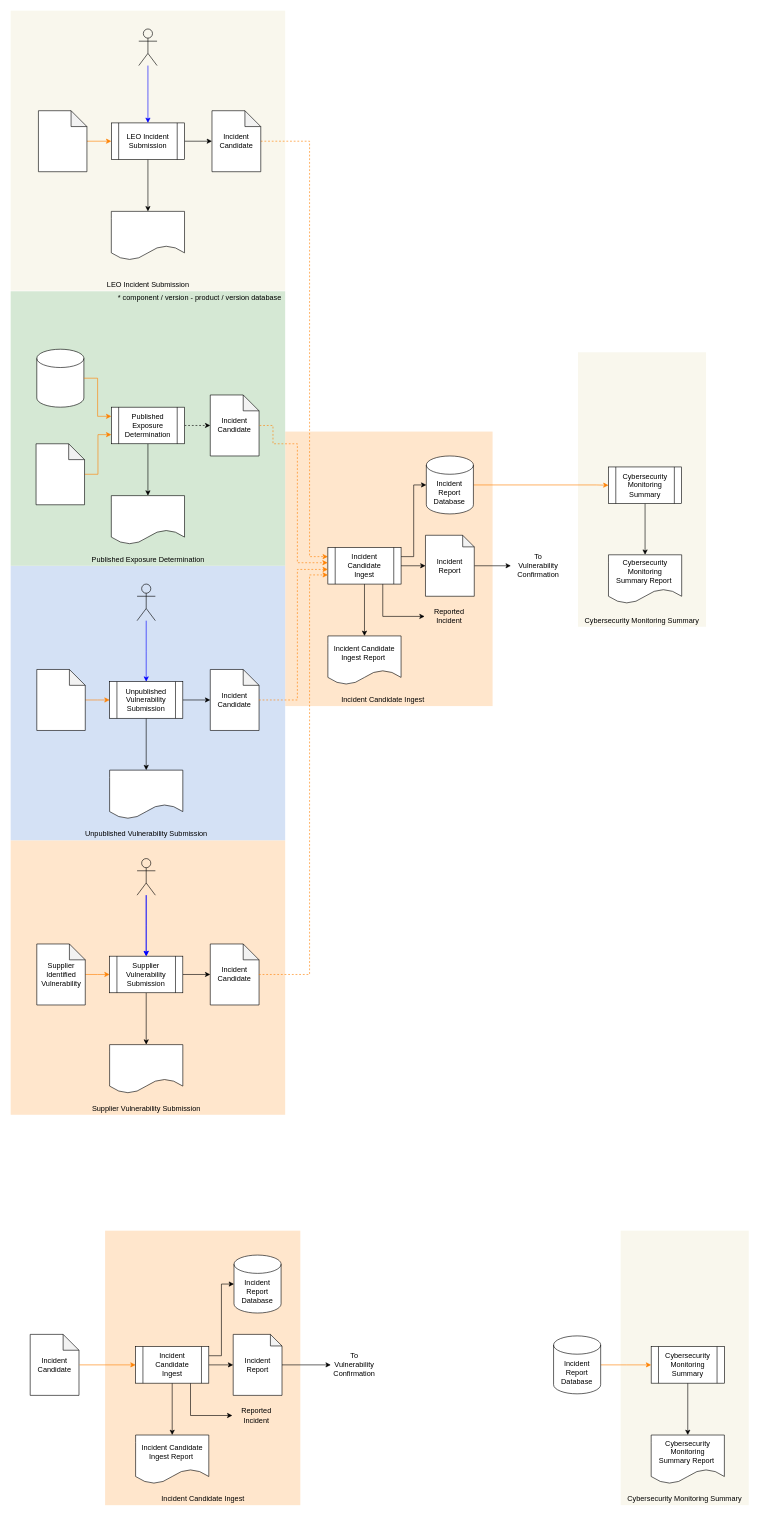
Image size: 759x1515. Some labels were removed from this diagram. The centre of each missing label's shape, as x and y in pixels:
"CV - PV * cross-reference database" goes at (60,378).
"Law Enforcement" goes at (147,47).
"LEO Incident" goes at (62,141).
"LEO Incident Submission Report" goes at (148,235).
"Published Exposure Determination Report" goes at (148,519).
"Published Vulnerability" goes at (60,474).
"Security Researcher" goes at (145,602).
"Supplier" goes at (145,876).
"Supplier Vulnerability Submission Report" goes at (146,1068).
"Unpublished Vulnerability" goes at (60,699).
"Unpublished Vulnerability Submission Report" goes at (146,794).
